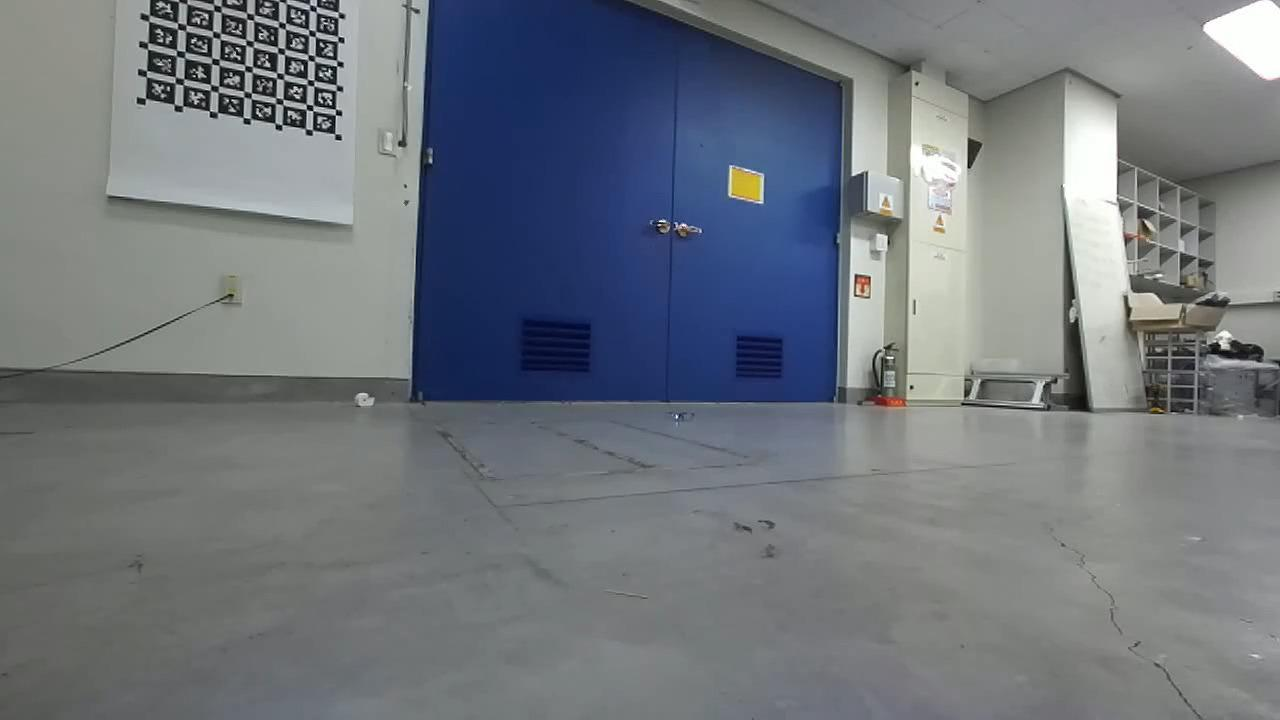crazyflie: (664, 406, 698, 426)
